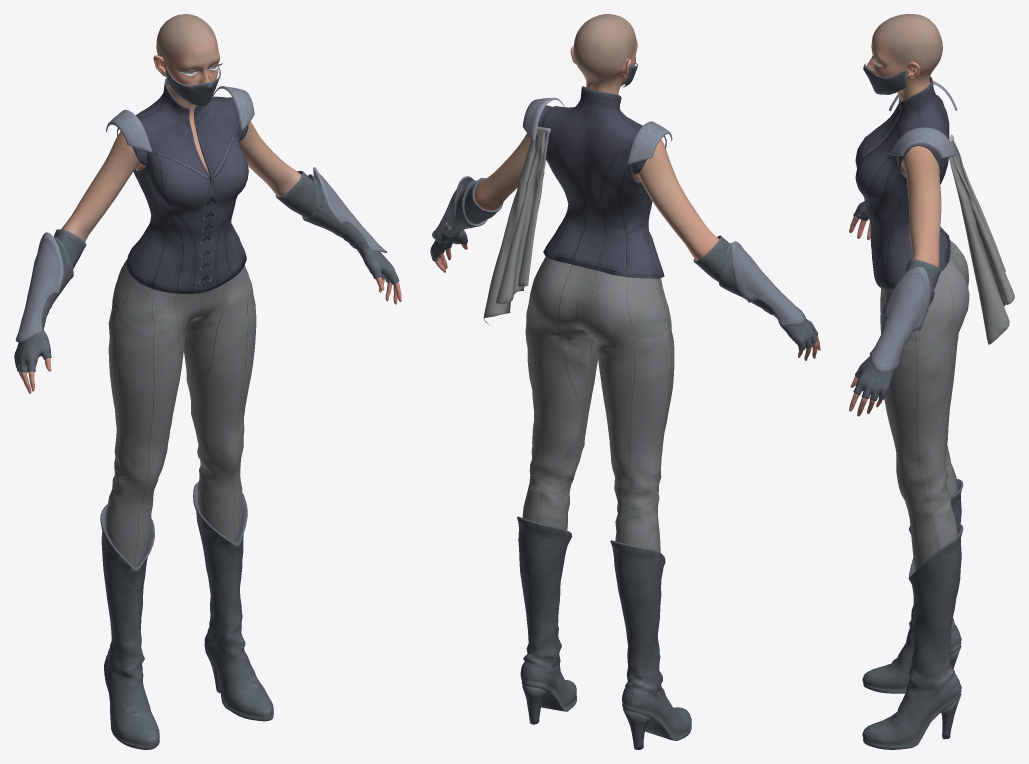
The picture shows the model from 3 angles, left to right: view 1: azimuth 30°, elevation 25°; view 2: azimuth 150°, elevation 25°; view 3: azimuth 270°, elevation 25°; orthographic projection.
Visible parts, largest first — view 1: GF_0092_T01_Pants, GF_0092_T01_Body, GF_0092_T01_Boots, GF_0092_T01_Glove, GF_BaseHead, GF_0092_T01_Shoulder, GF_0092_T01_Helmet; view 2: GF_0092_T01_Pants, GF_0092_T01_Body, GF_0092_T01_Boots, GF_0092_T01_Glove, GF_0092_T01_Cape, GF_BaseHead, GF_0092_T01_Shoulder; view 3: GF_0092_T01_Pants, GF_0092_T01_Body, GF_0092_T01_Boots, GF_0092_T01_Glove, GF_0092_T01_Cape, GF_BaseHead, GF_0092_T01_Shoulder, GF_0092_T01_Helmet.
Part boxes in pixels (x1,y1,x2,y2): GF_0092_T01_Pants: [105, 259, 256, 566]; GF_0092_T01_Body: [18, 78, 401, 393]; GF_0092_T01_Boots: [100, 481, 273, 749]; GF_0092_T01_Glove: [14, 167, 399, 372]; GF_BaseHead: [153, 14, 222, 114]; GF_0092_T01_Shoulder: [106, 86, 254, 152]; GF_0092_T01_Helmet: [165, 66, 220, 106]; GF_0092_T01_Pants: [522, 256, 674, 552]; GF_0092_T01_Body: [435, 86, 820, 360]; GF_0092_T01_Boots: [517, 516, 691, 749]; GF_0092_T01_Glove: [430, 176, 817, 350]; GF_0092_T01_Cape: [483, 126, 550, 325]; GF_BaseHead: [570, 14, 637, 94]; GF_0092_T01_Shoulder: [522, 97, 672, 164]; GF_0092_T01_Pants: [880, 240, 969, 571]; GF_0092_T01_Body: [849, 76, 950, 416]; GF_0092_T01_Boots: [862, 479, 963, 749]; GF_0092_T01_Glove: [853, 201, 941, 400]; GF_0092_T01_Cape: [949, 134, 1014, 344]; GF_BaseHead: [866, 14, 942, 101]; GF_0092_T01_Shoulder: [889, 81, 956, 158]; GF_0092_T01_Helmet: [863, 63, 906, 94].
Bounding box in the file's own units: 1.03 × 1.83 × 0.3935.
10 materials, 9 textured.
